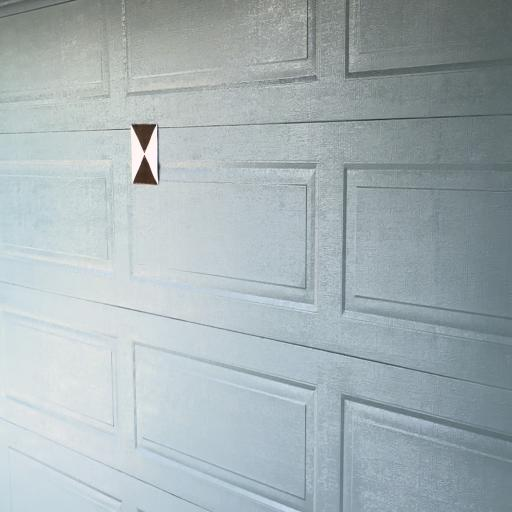target: (130, 126, 158, 184)
